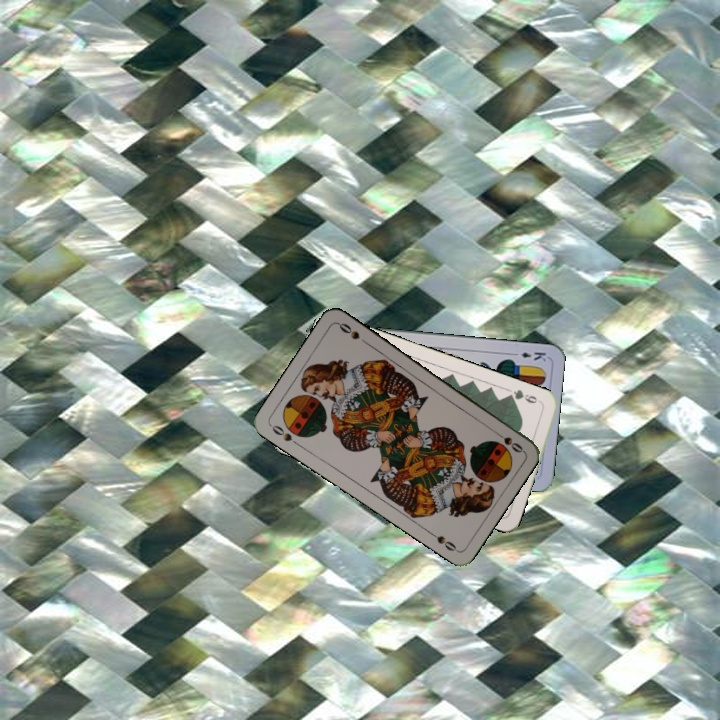EK: (508, 348, 549, 364)
G9: (504, 386, 545, 407)
SO: (490, 427, 526, 455), (266, 421, 302, 449)
